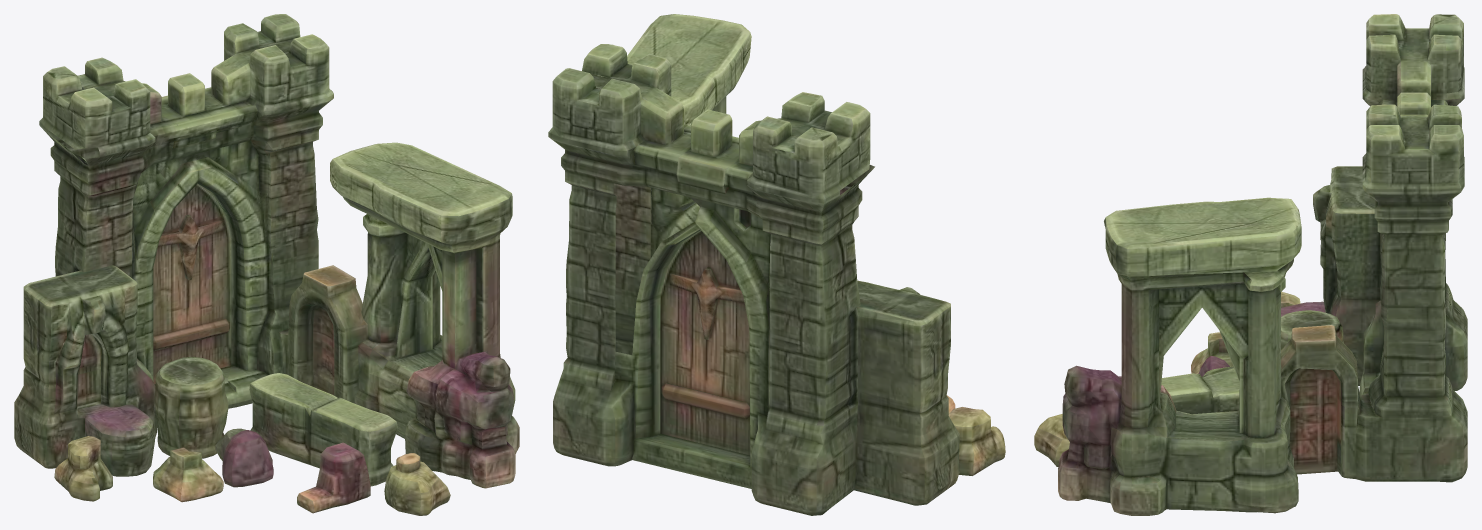
Rendered from ruin_gate.glb.
3 renders of one model, left to right at view 1: azimuth 30°, elevation 25°; view 2: azimuth 150°, elevation 25°; view 3: azimuth 270°, elevation 25°, orthographic. The views are drawn at different scales.
Bounding box in the file's own units: 1.9 × 1.61 × 1.81.
1 material, 1 textured.
